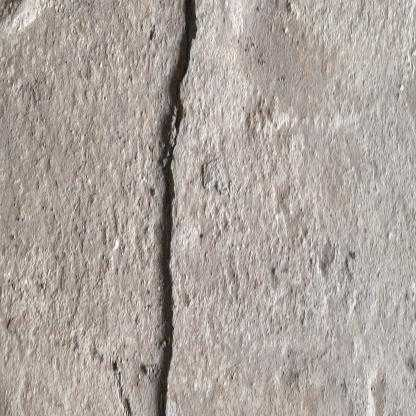crack: (157, 1, 192, 415)
